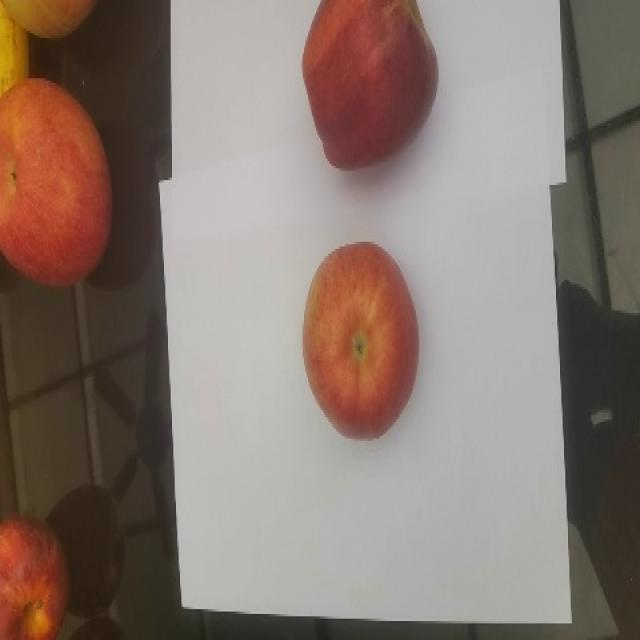Apple: (0, 76, 113, 287), (301, 241, 419, 440), (301, 0, 439, 170), (0, 515, 69, 639), (0, 0, 96, 39), (0, 1, 29, 97)
